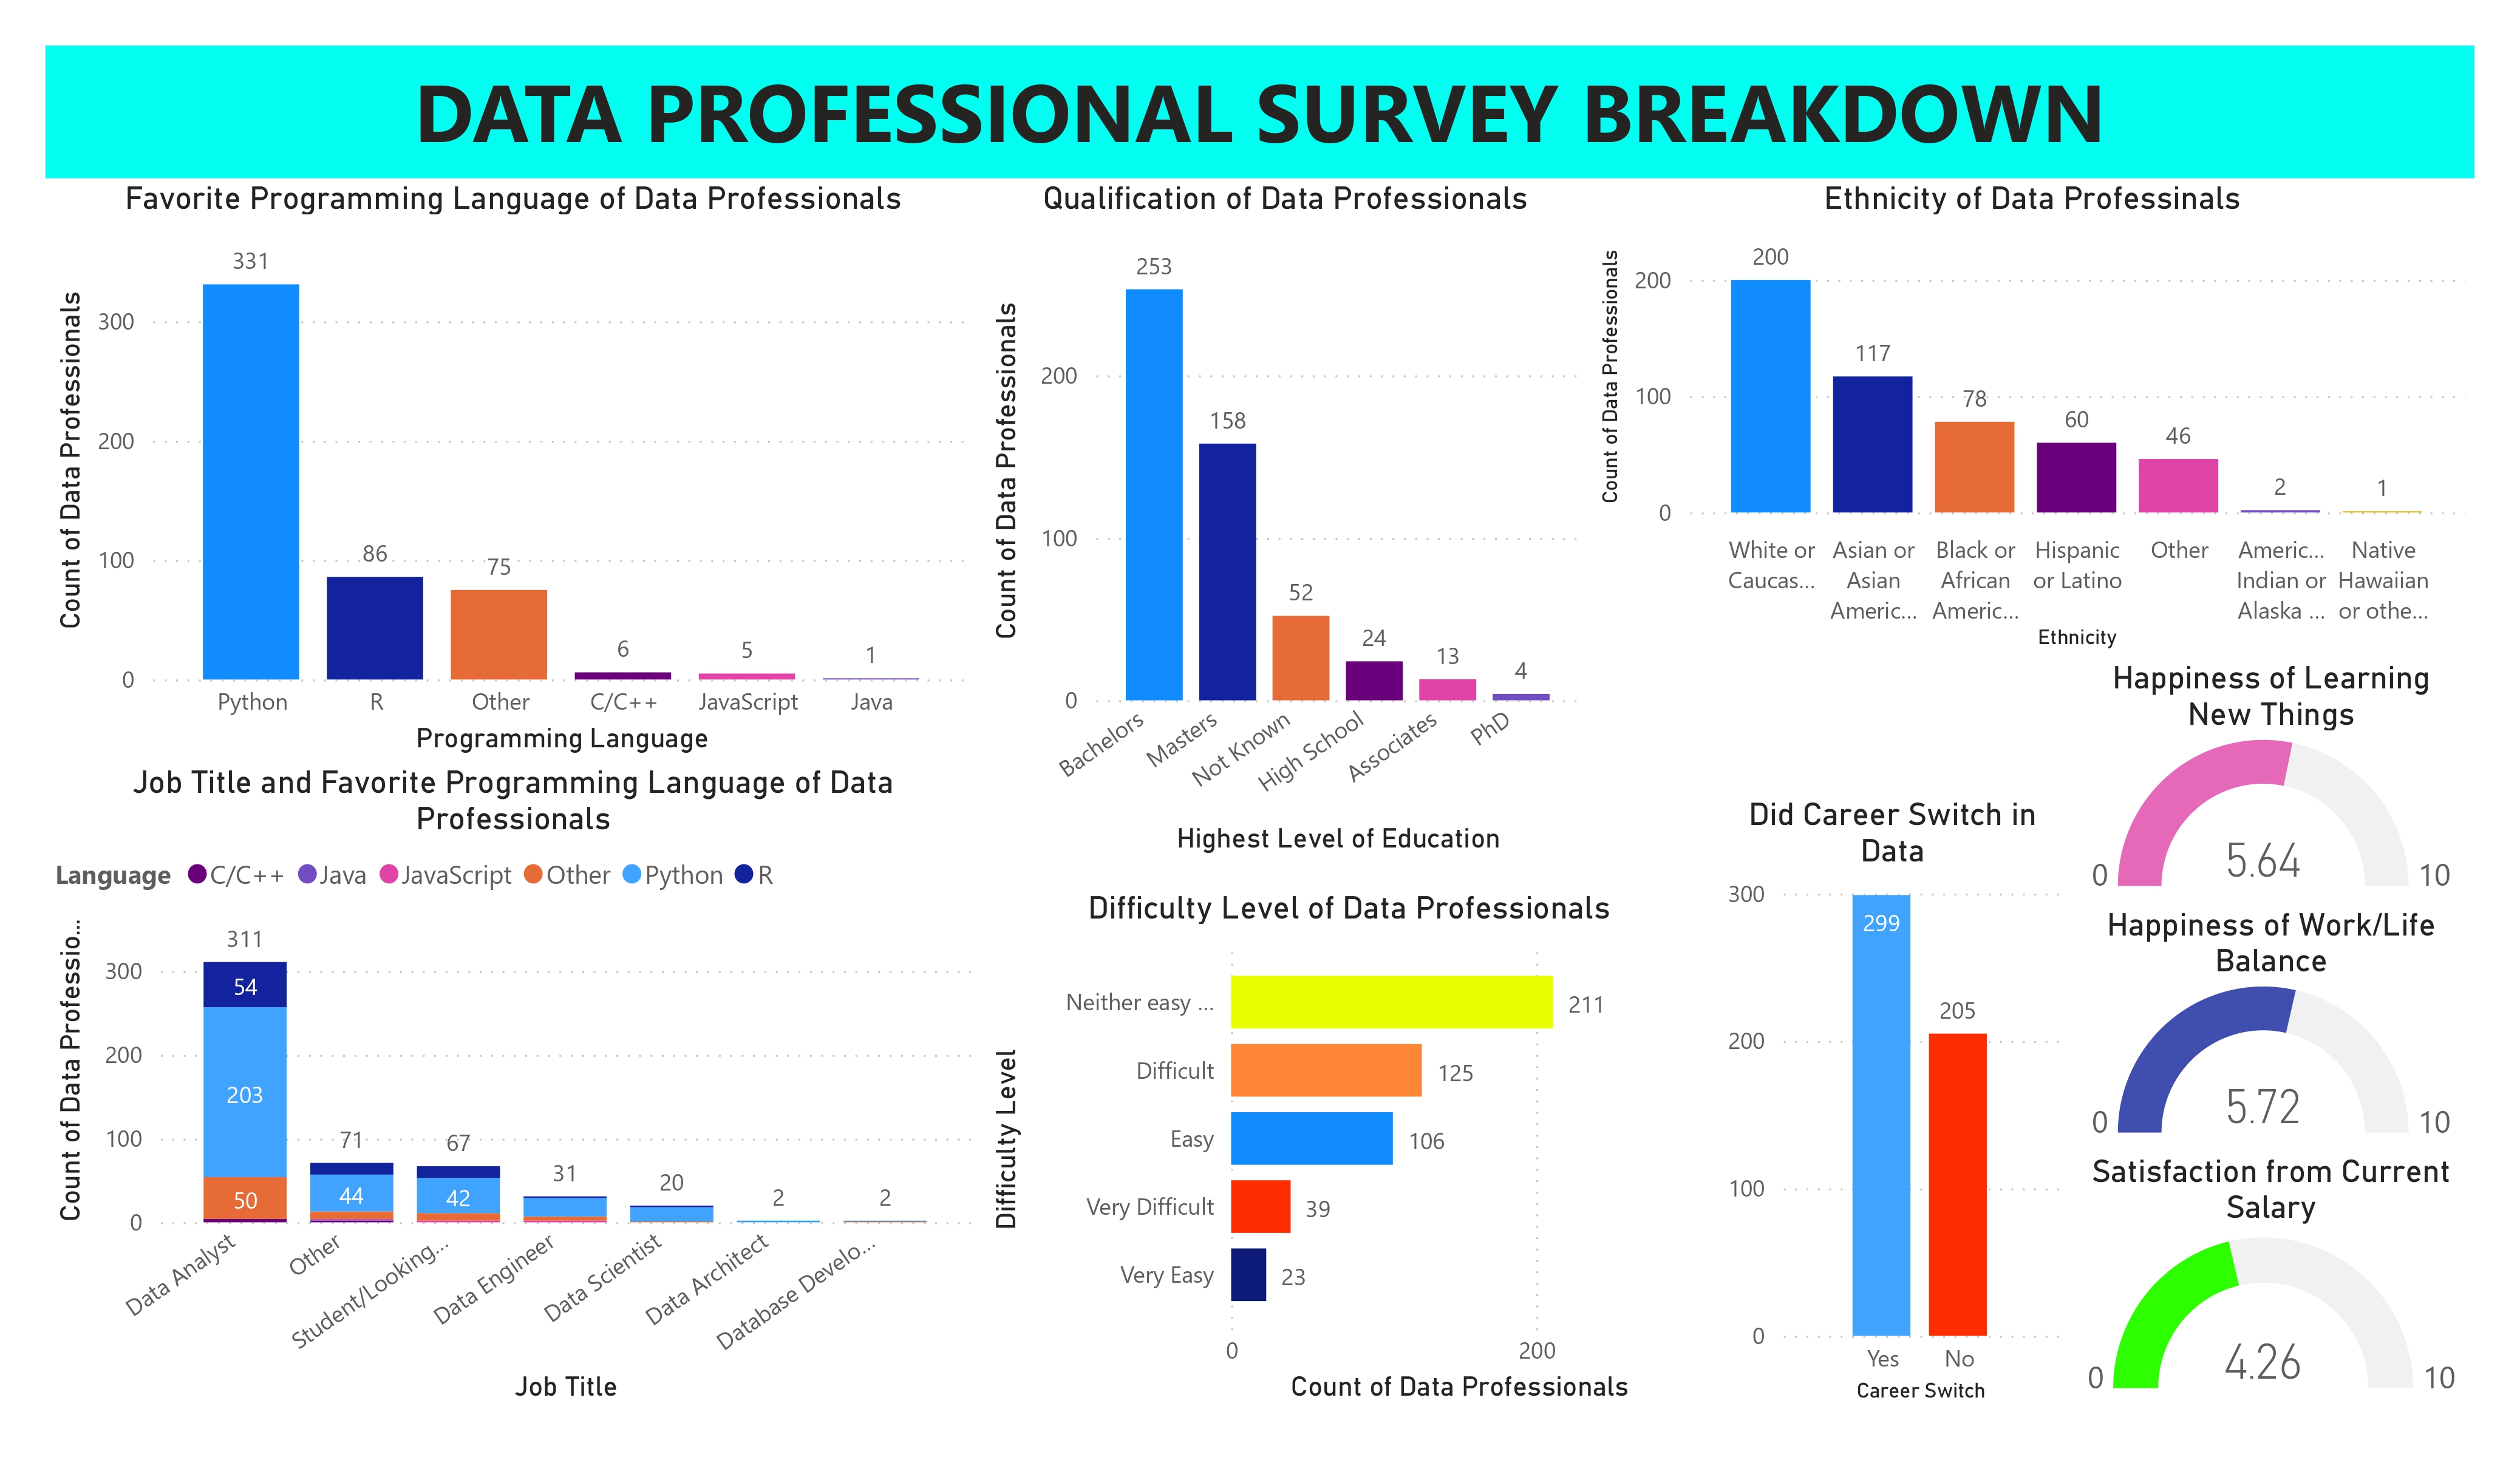

This screenshot's page, from the dashboard's own definition file:
{"tool":"powerbi","page":{"name":"Page 3","canvas":[1280,720],"ordinal":2},"visuals":[{"type":"columnChart","title":"Favorite Programming Language of Data Professionals","fields":{"Category":["Data Professional Survey.Q5 - Favorite Programming Language.1"],"Y":["CountNonNull(Data Professional Survey.Unique ID)"],"Series":["Data Professional Survey.Q5 - Favorite Programming Language.1"]},"box":[0,70,492.5,307.5],"z":0},{"type":"columnChart","title":"Job Title and Favorite Programming Language of Data Professionals","fields":{"Category":["Data Professional Survey.Q1 - Which Title Best Fits your Current Role?.1"],"Y":["CountNonNull(Data Professional Survey.Unique ID)"],"Series":["Data Professional Survey.Q5 - Favorite Programming Language.1"]},"box":[0,377.5,492.5,342.5],"z":1000},{"type":"columnChart","title":"Did Career Switch in Data","fields":{"Y":["CountNonNull(Data Professional Survey.Unique ID)"],"Category":["Data Professional Survey.Q2 - Did you switch careers into Data?"]},"box":[881.2,395,185,325],"z":2000},{"type":"barChart","title":"Difficulty Level of Data Professionals","fields":{"Category":["Data Professional Survey.Q7 - How difficult was it for you to break into Data?"],"Y":["CountNonNull(Data Professional Survey.Unique ID)"]},"box":[492.5,443.8,388.8,276.2],"z":3000},{"type":"gauge","title":"Happiness of Work/Life Balance","fields":{"Y":["Avg(Data Professional Survey.Q6 - How Happy are you in your Current Position with the following? (Work/Life Balance))"],"MinValue":["Min(Data Professional Survey.Q6 - How Happy are you in your Current Position with the following? (Work/Life Balance))"],"MaxValue":["Max(Data Professional Survey.Q6 - How Happy are you in your Current Position with the following? (Work/Life Balance))"]},"box":[1066.2,452.5,213.8,130],"z":4000},{"type":"gauge","title":"Happiness of Learning New Things","fields":{"Y":["Avg(Data Professional Survey.Q6 - How Happy are you in your Current Position with the following? (Learning New Things))"],"MinValue":["Min(Data Professional Survey.Q6 - How Happy are you in your Current Position with the following? (Learning New Things))1"],"MaxValue":["Max(Data Professional Survey.Q6 - How Happy are you in your Current Position with the following? (Learning New Things))"]},"box":[1066.2,322.5,213.8,130],"z":5000},{"type":"gauge","title":"Satisfaction from Current Salary","fields":{"Y":["Avg(Data Professional Survey.Q6 - How Happy are you in your Current Position with the following? (Salary))"],"MinValue":["Min(Data Professional Survey.Q6 - How Happy are you in your Current Position with the following? (Salary))"],"MaxValue":["Max(Data Professional Survey.Q6 - How Happy are you in your Current Position with the following? (Salary))"]},"box":[1066.2,582.5,213.8,137.5],"z":6000},{"type":"columnChart","title":"Ethnicity of Data Professinals","fields":{"Category":["Data Professional Survey.Q13 - Ethnicity.1"],"Y":["CountNonNull(Data Professional Survey.Unique ID)"],"Series":["Data Professional Survey.Q13 - Ethnicity.1"]},"box":[813.8,70,466.2,252.5],"z":7000},{"type":"columnChart","title":"Qualification of Data Professionals","fields":{"Category":["Data Professional Survey.Q12 - Highest Level of Education"],"Y":["CountNonNull(Data Professional Survey.Unique ID)"],"Series":["Data Professional Survey.Q12 - Highest Level of Education"]},"box":[492.5,70,321.2,361.2],"z":8000},{"type":"textbox","box":[0,0,1280,70],"z":9000}]}

Visuals, with their boxes in screenshot pixels (x1, y1, x2, y2):
"Favorite Programming Language of Data Professionals" columnChart: detection(46, 178, 980, 762)
"Job Title and Favorite Programming Language of Data Professionals" columnChart: detection(46, 762, 980, 1411)
"Did Career Switch in Data" columnChart: detection(1718, 795, 2069, 1411)
"Difficulty Level of Data Professionals" barChart: detection(980, 888, 1718, 1411)
"Happiness of Work/Life Balance" gauge: detection(2069, 904, 2474, 1150)
"Happiness of Learning New Things" gauge: detection(2069, 657, 2474, 904)
"Satisfaction from Current Salary" gauge: detection(2069, 1150, 2474, 1411)
"Ethnicity of Data Professinals" columnChart: detection(1590, 178, 2474, 657)
"Qualification of Data Professionals" columnChart: detection(980, 178, 1590, 863)
textbox: detection(46, 46, 2474, 178)
